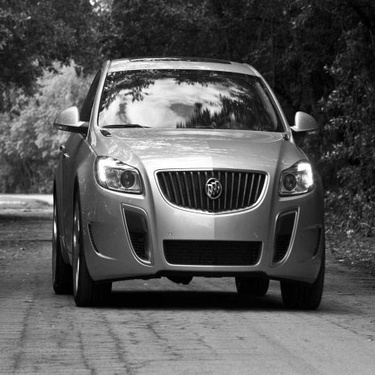car: (45, 47, 320, 297)
